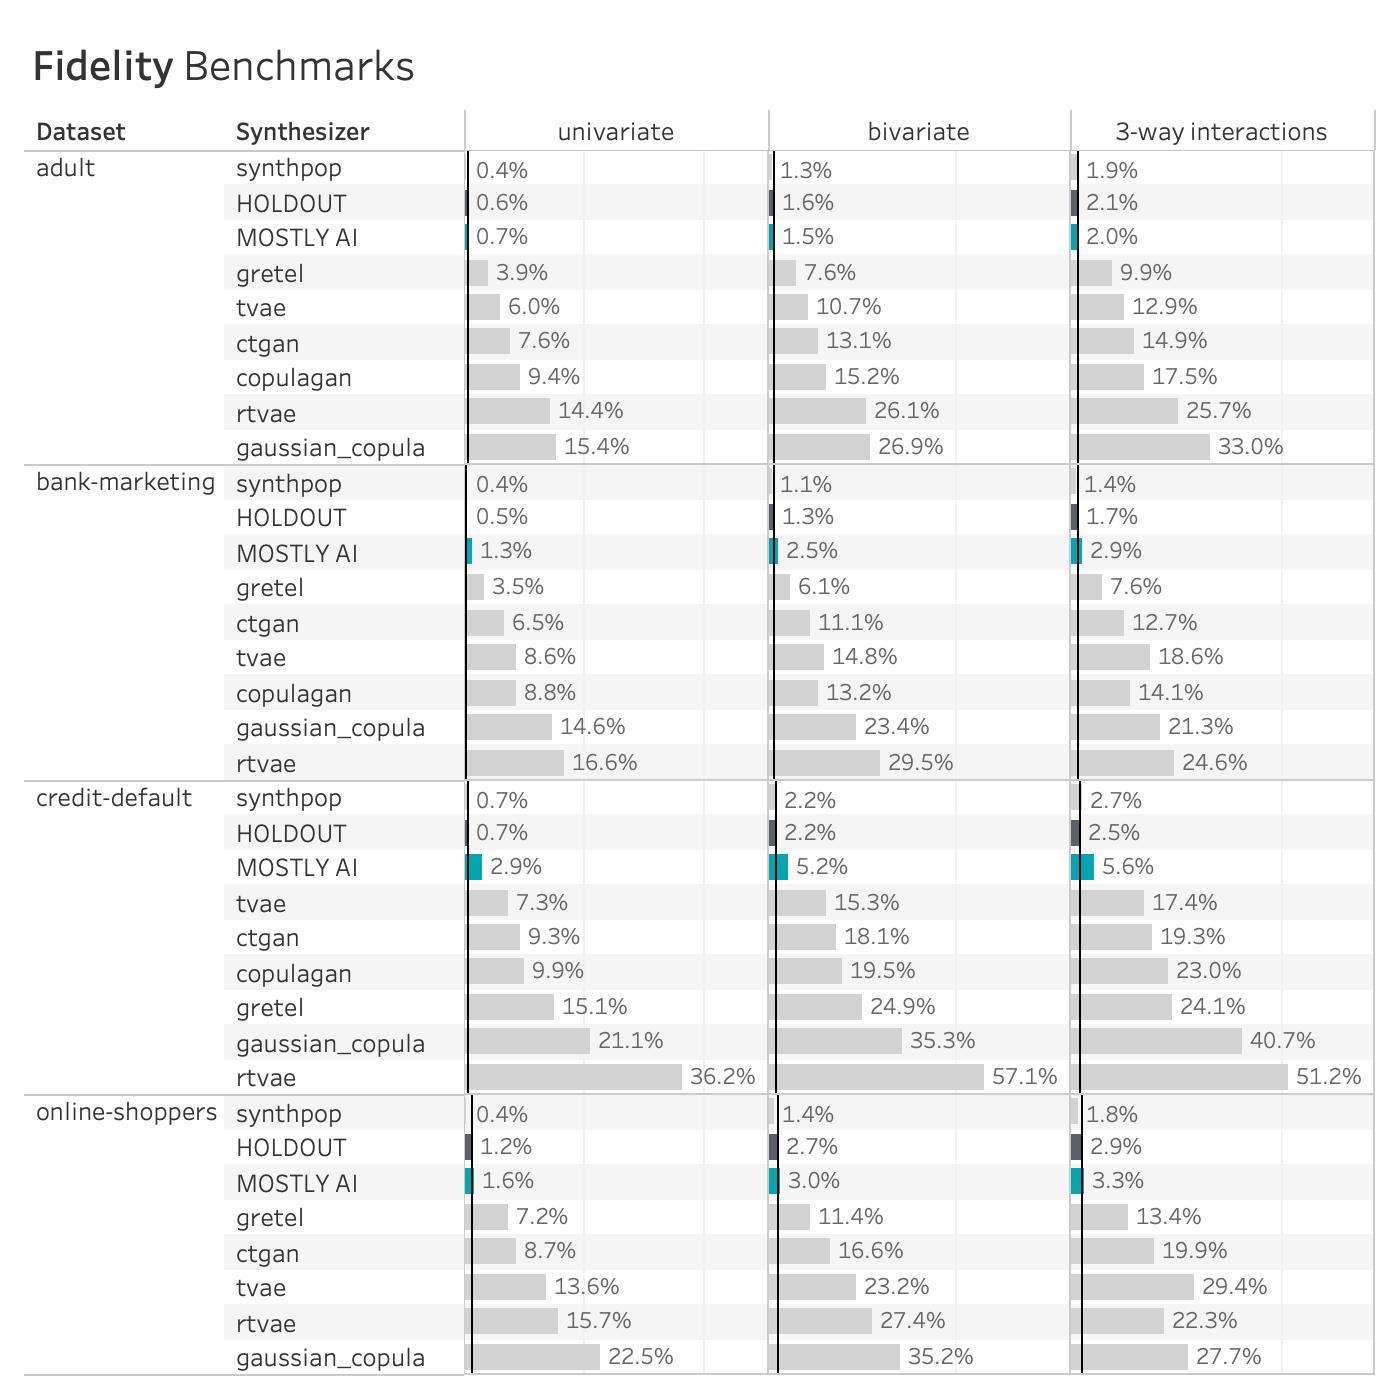

Layout of this report page (visuals, bound fields, positions):
{"tool":"tableau","page":{"name":"fidelity_all","canvas":[700,700],"ordinal":3},"visuals":[{"type":"worksheet","title":"Sheet 2 (3)","mark":"Automatic","rows":["dataset","synthesizer"],"cols":["Calculation_1058205215610793986","tvd"],"box":[8,8,684,684]}]}

Visuals, with their boxes in screenshot pixels (x1, y1, x2, y2), scaled from the page's 700x700 canvas onto the 1400x1400 screenshot:
"Sheet 2 (3)" worksheet: {"left": 16, "top": 16, "right": 1384, "bottom": 1384}
